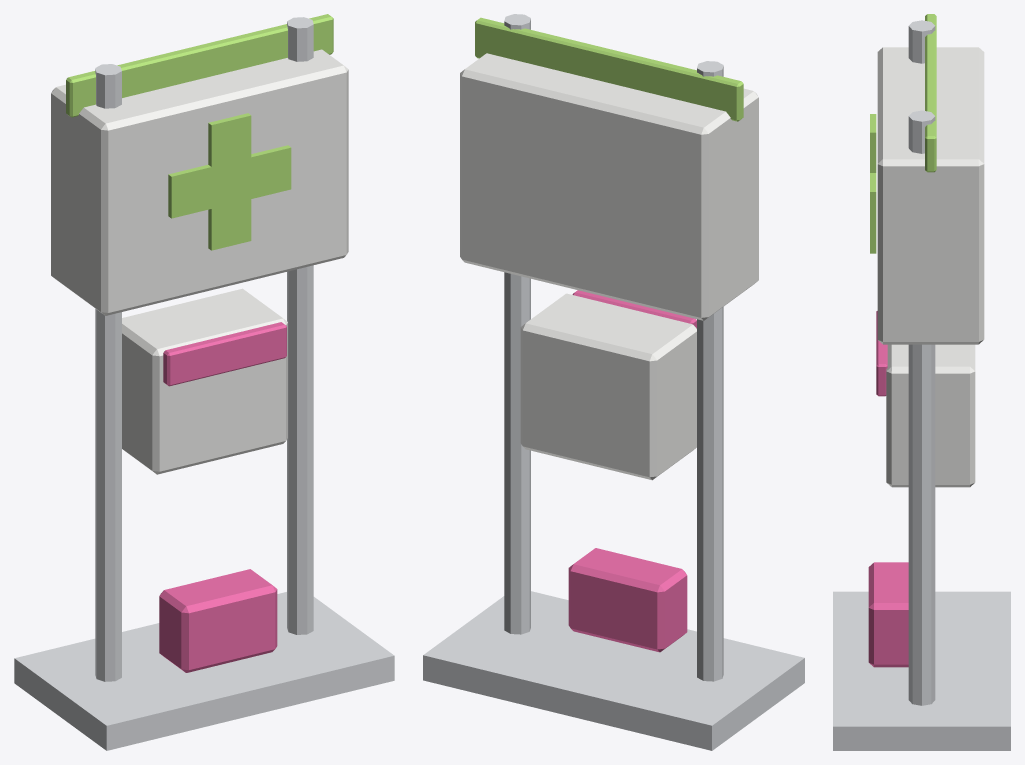
Rendered from trampoline-park-and-soft-play-first-aid-point-df78ea39__34638.glb.
3 renders of one model, left to right at view 1: azimuth 30°, elevation 25°; view 2: azimuth 150°, elevation 25°; view 3: azimuth 270°, elevation 25°, orthographic. The views are drawn at different scales.
Visible parts, largest first — view 1: first-aid-point; view 2: first-aid-point; view 3: first-aid-point.
Boxes of the visible parts, x1,y1,x2,y2 form: first-aid-point: (14, 14, 394, 750); first-aid-point: (423, 14, 804, 750); first-aid-point: (833, 14, 1010, 750).
Bounding box in the file's own units: 0.72 × 1.52 × 0.4001.
